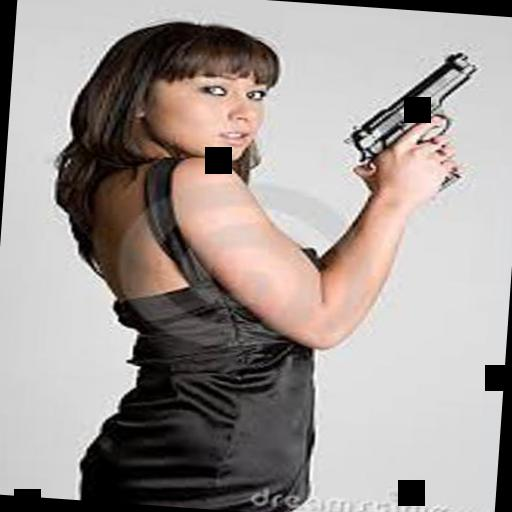Handgun: (322, 35, 486, 189)
